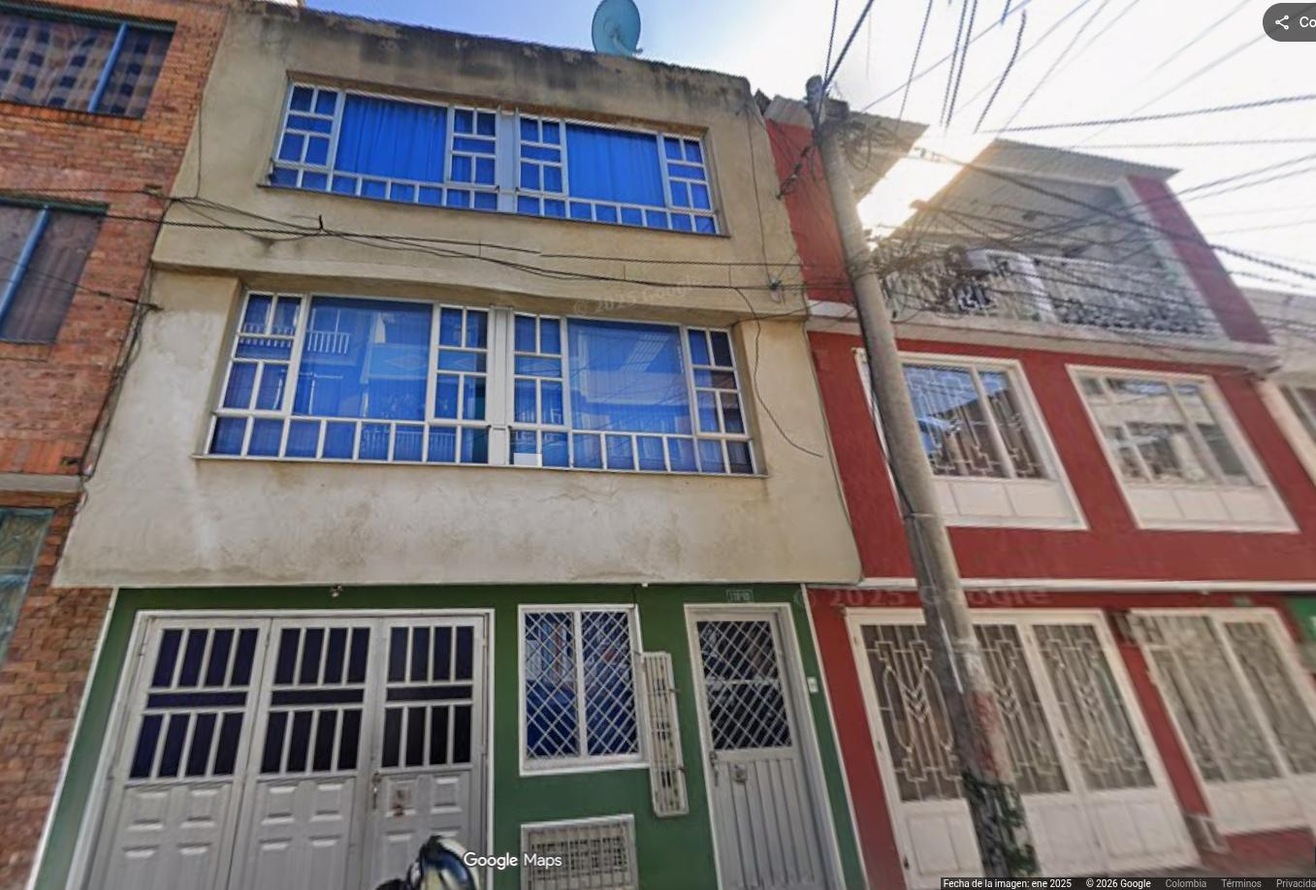casa: (17, 2, 866, 889), (840, 106, 1315, 871), (0, 0, 226, 889), (759, 95, 978, 886)
poste: (807, 77, 1035, 876)
